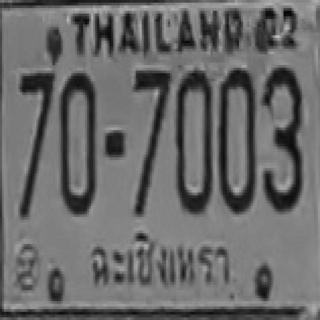N00: (217, 66, 255, 210), (175, 68, 212, 212), (59, 70, 95, 212)
N03: (261, 65, 302, 209)
N07: (132, 68, 170, 214), (133, 68, 171, 201), (18, 72, 53, 213), (134, 68, 170, 160), (134, 69, 170, 150)
P07: (82, 226, 242, 300)
